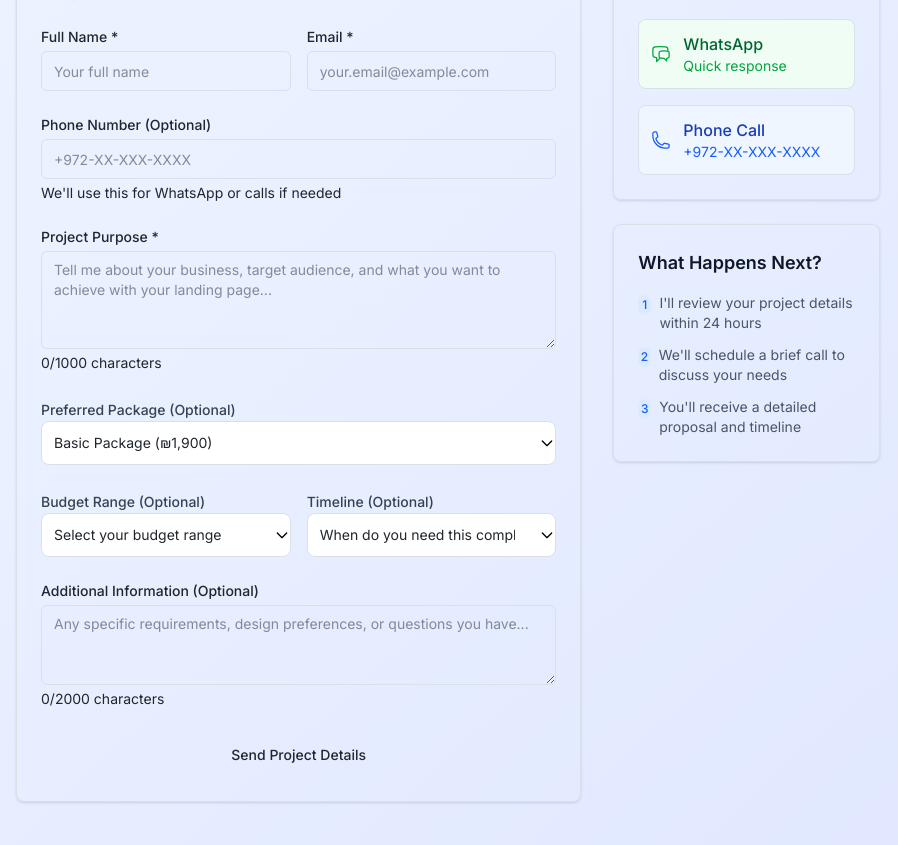
it: Contact Component › shows validation errors for required fields
(page scrolled)
Click the button "Send Project Details".
click(299, 755)  # box x1=41 y1=733 x2=556 y2=777
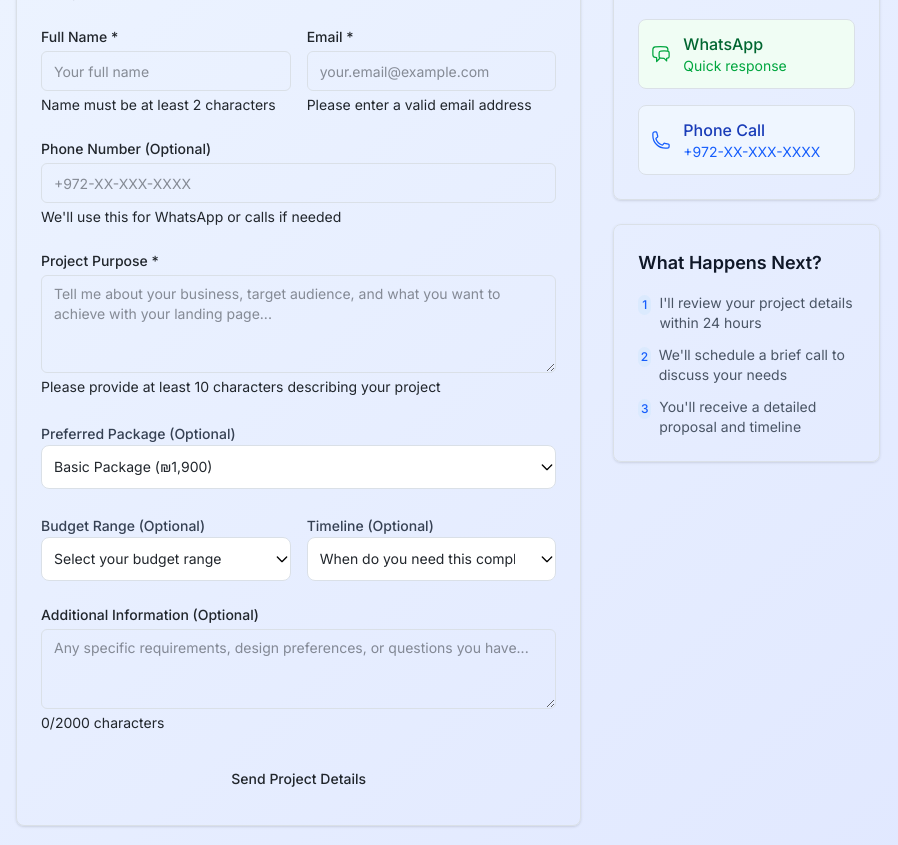
Expected: the text "Name must be at least 2 characters" is shown, x1=41 y1=95 x2=291 y2=115
Expected: the text "Please enter a valid email address" is shown, x1=307 y1=95 x2=556 y2=115
Expected: the text "Please provide at least 10 characters describing your project" is shown, x1=41 y1=378 x2=441 y2=395
